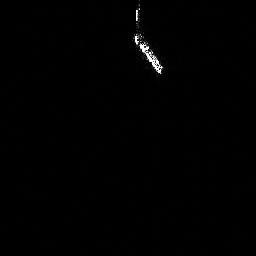ship: (130, 2, 168, 78)
